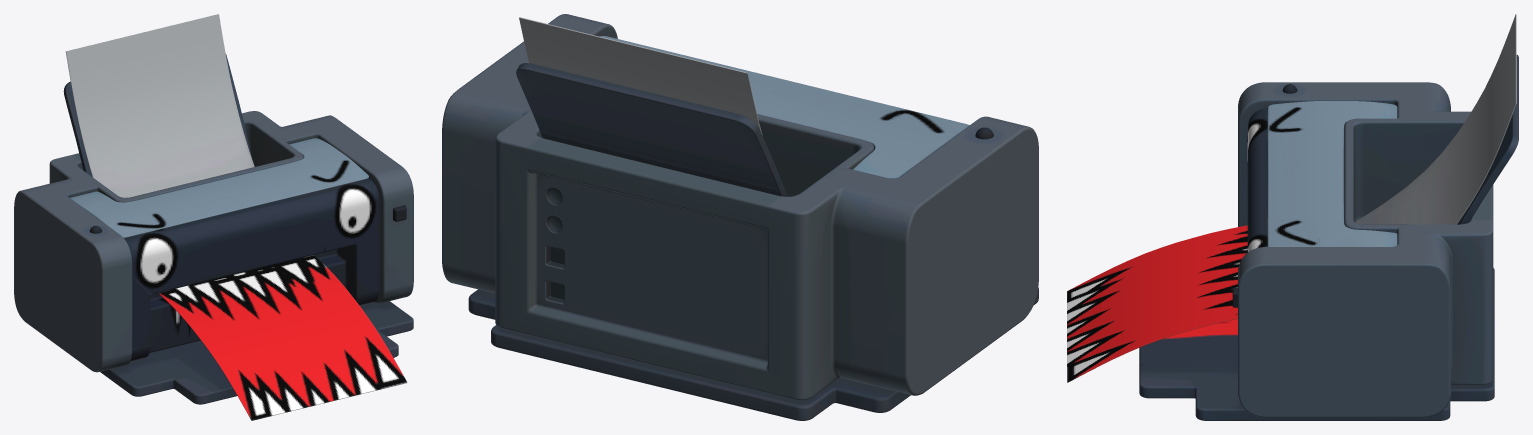
File: angryPrinter.fbx
3 renders of one model, left to right at view 1: azimuth 30°, elevation 25°; view 2: azimuth 150°, elevation 25°; view 3: azimuth 270°, elevation 25°, orthographic. The views are drawn at different scales.
Visible parts, largest first — view 1: node_id55; view 2: node_id55; view 3: node_id55.
Part boxes in pixels (<box>): node_id55: <box>14,14,413,420</box>; node_id55: <box>442,14,1038,420</box>; node_id55: <box>1067,14,1518,420</box>.
Bounding box in the file's own units: 0.512 × 0.3662 × 0.5346.
Materials: 1 (1 with a texture image).
